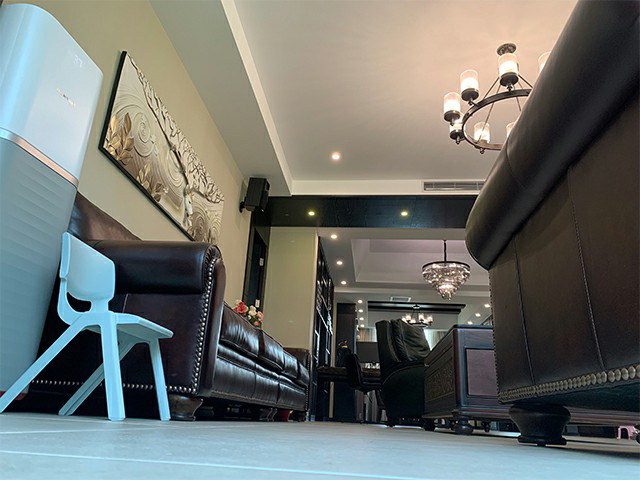sofa: (464, 1, 640, 450), (30, 191, 310, 418), (375, 318, 430, 427)
stool: (1, 232, 173, 423), (345, 353, 384, 425)
table: (421, 323, 511, 436), (317, 366, 382, 422)
